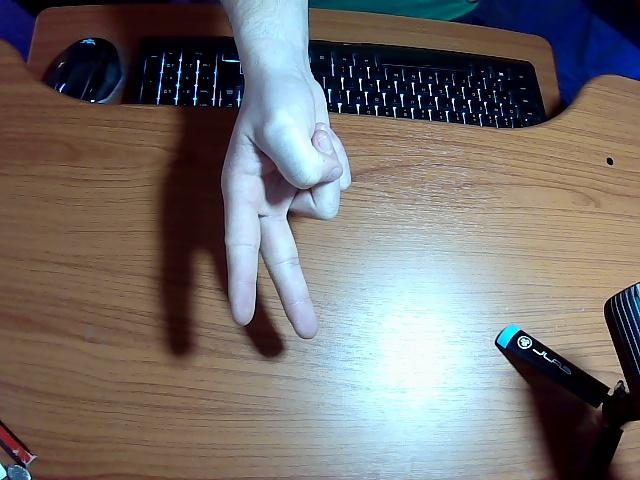scissors: (221, 0, 351, 339)
